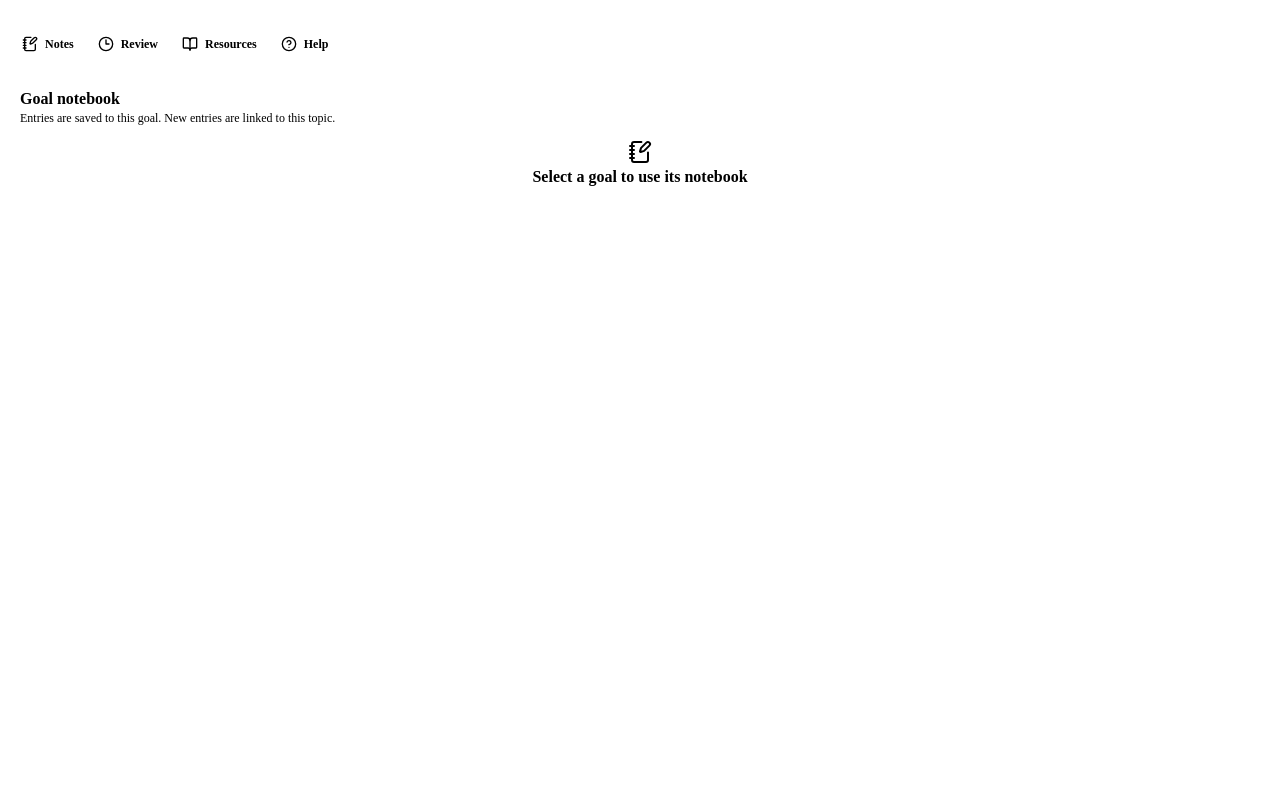
Test: generated topic content presentation › renders IDK-003 §7 attribution alongside the Sources layer markdown on the resources tab (IDK-503 B5, third surface)
Click the tab "Resources" at [219, 44], box [170,18,269,70]
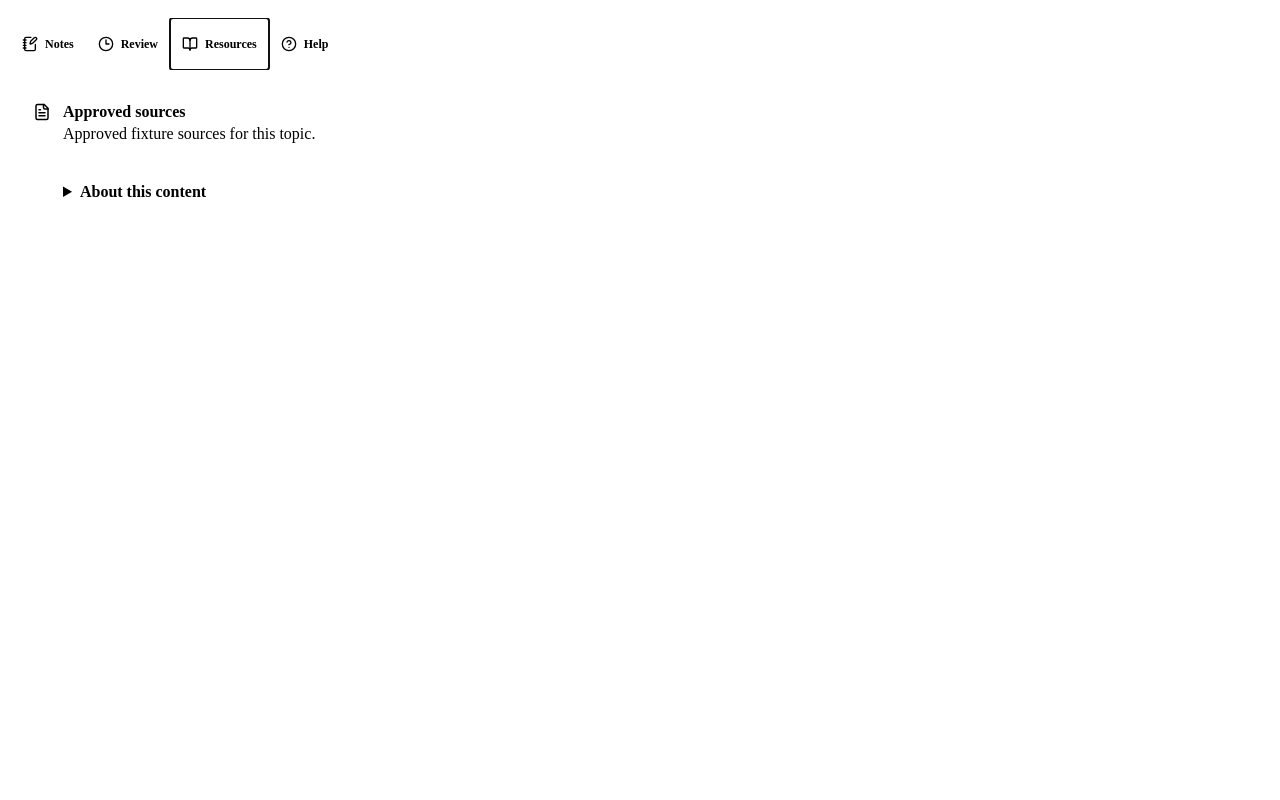
Result: the text "Approved fixture sources for this topic." is shown at [63,125,315,142]
Click the heading "About this content" at [143, 192], box [80,183,206,200]
(page scrolled)
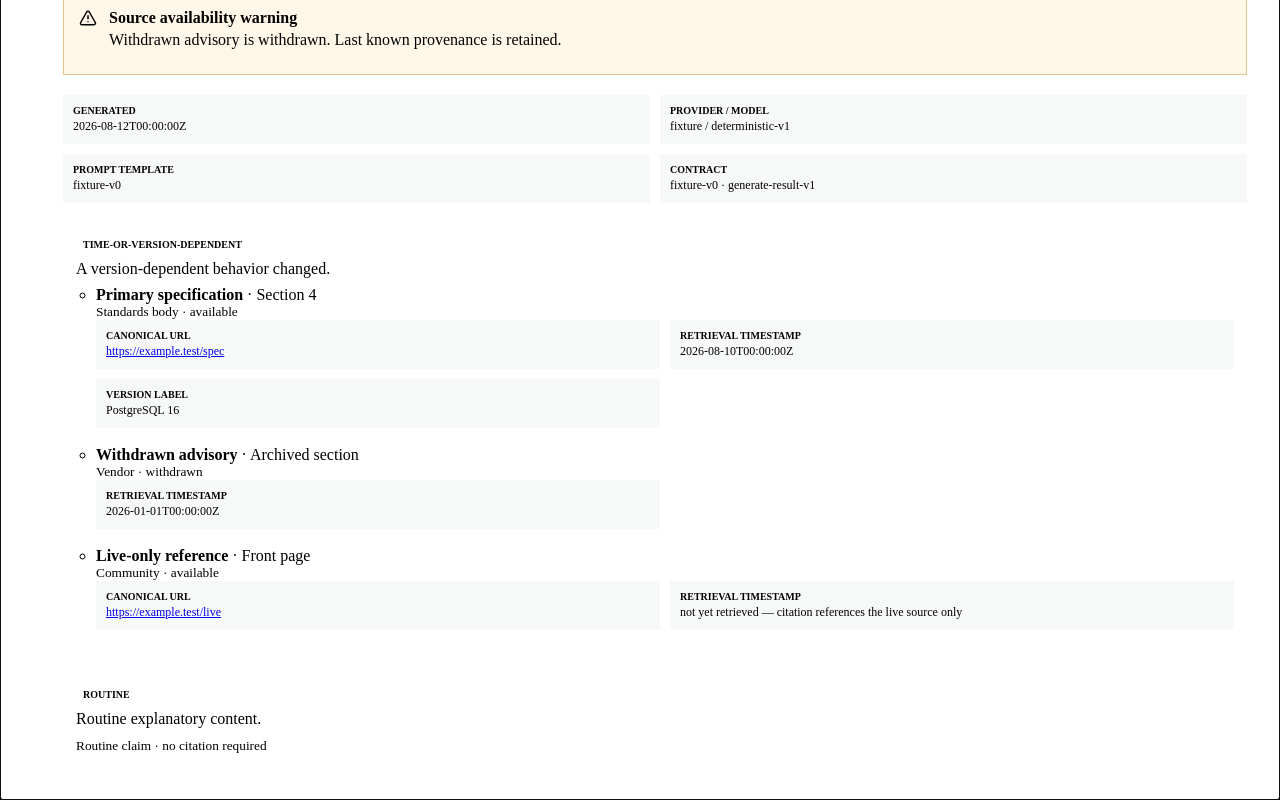
Result: the text "2026-08-10T00:00:00Z" is shown at [680,344,793,358]
Result: the text "PostgreSQL 16" is shown at [106,403,179,417]
Result: the text "not yet retrieved — citation references the live source only" is shown at [680,605,962,619]
